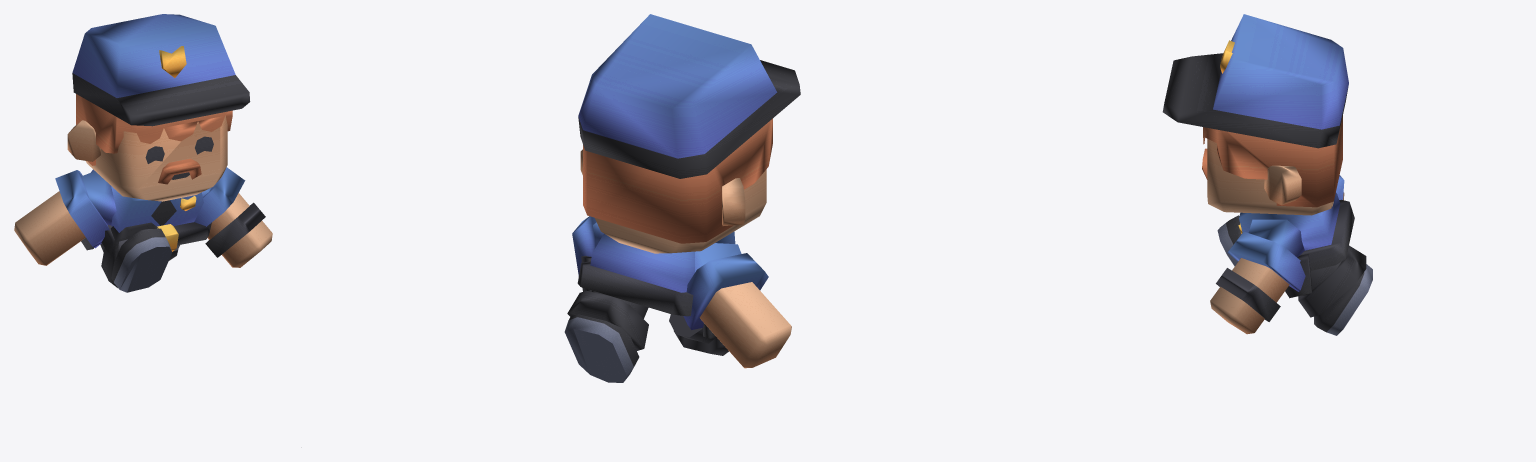
Rendered from leader_sprint_5.glb.
3 renders of one model, left to right at view 1: azimuth 30°, elevation 25°; view 2: azimuth 150°, elevation 25°; view 3: azimuth 270°, elevation 25°, orthographic. The views are drawn at different scales.
Visible parts, largest first — view 1: leader-sprint-5; view 2: leader-sprint-5; view 3: leader-sprint-5.
Boxes of the visible parts, box(x1,y1,x2,y2) form: leader-sprint-5: box(14, 14, 272, 292); leader-sprint-5: box(564, 14, 800, 382); leader-sprint-5: box(1162, 14, 1372, 335).
Size of the model in its own units: 1.2 by 0.888 by 1.2.
Materials: 1 (1 with a texture image).
